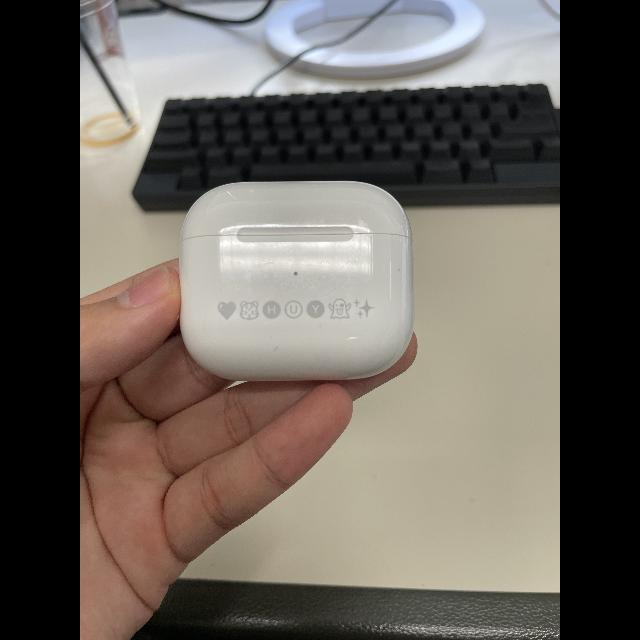airpod3: (157, 160, 437, 400)
